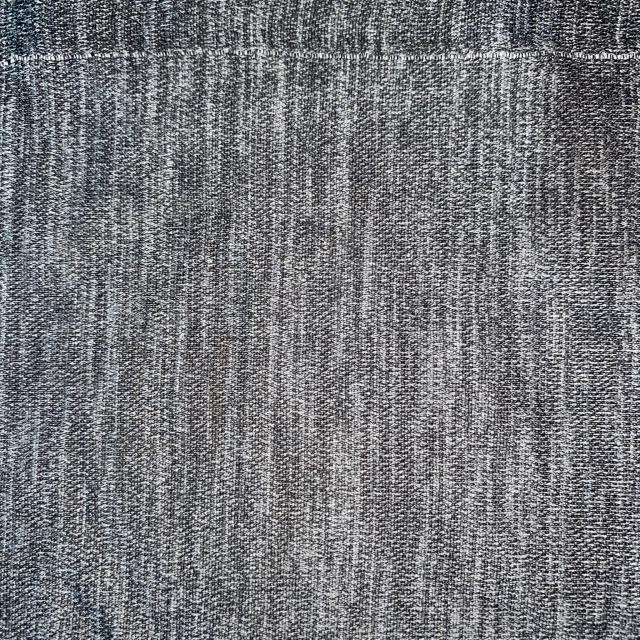Line: (0, 47, 640, 72)
